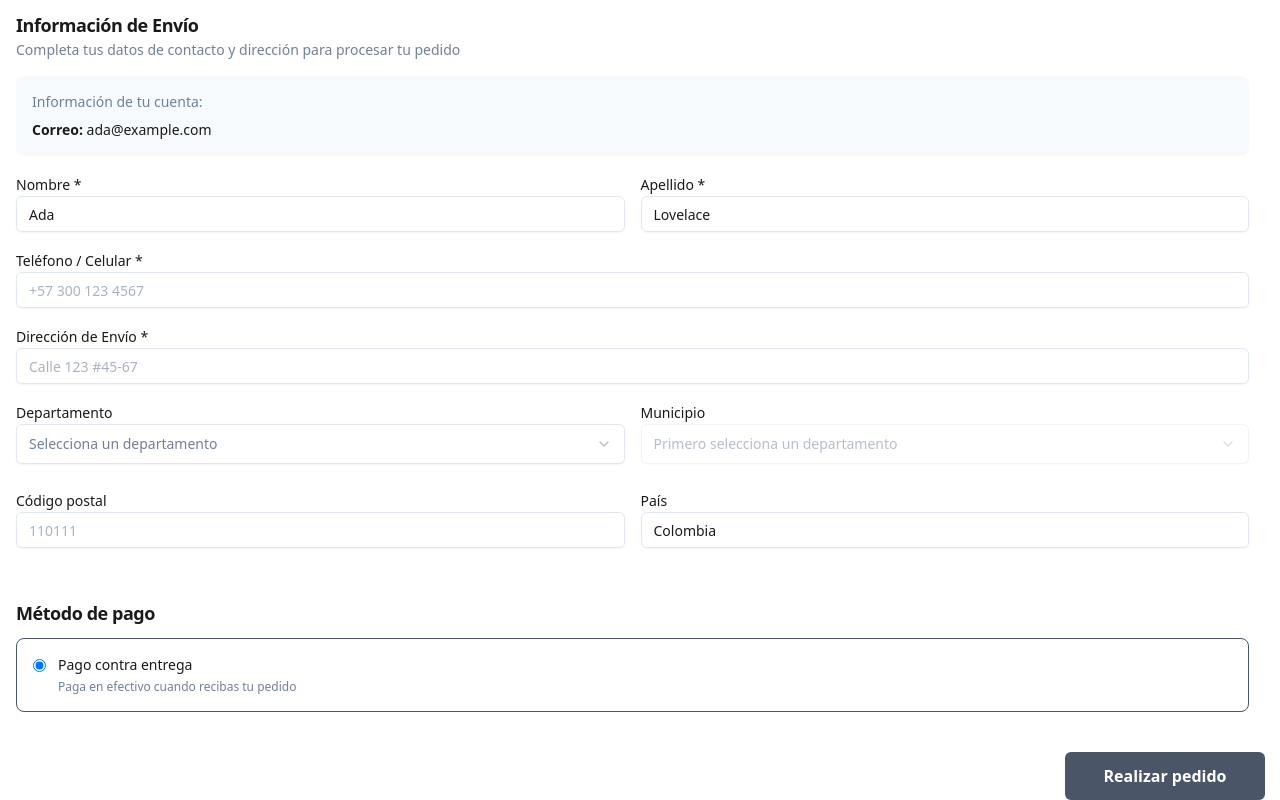
it: AuthenticatedCheckoutForm field validation › requires phone and address before submitting
The width and height of the screenshot is (1280, 800).
Click the button "Realizar pedido". click: (1165, 776)
box: [1065,752,1265,799]
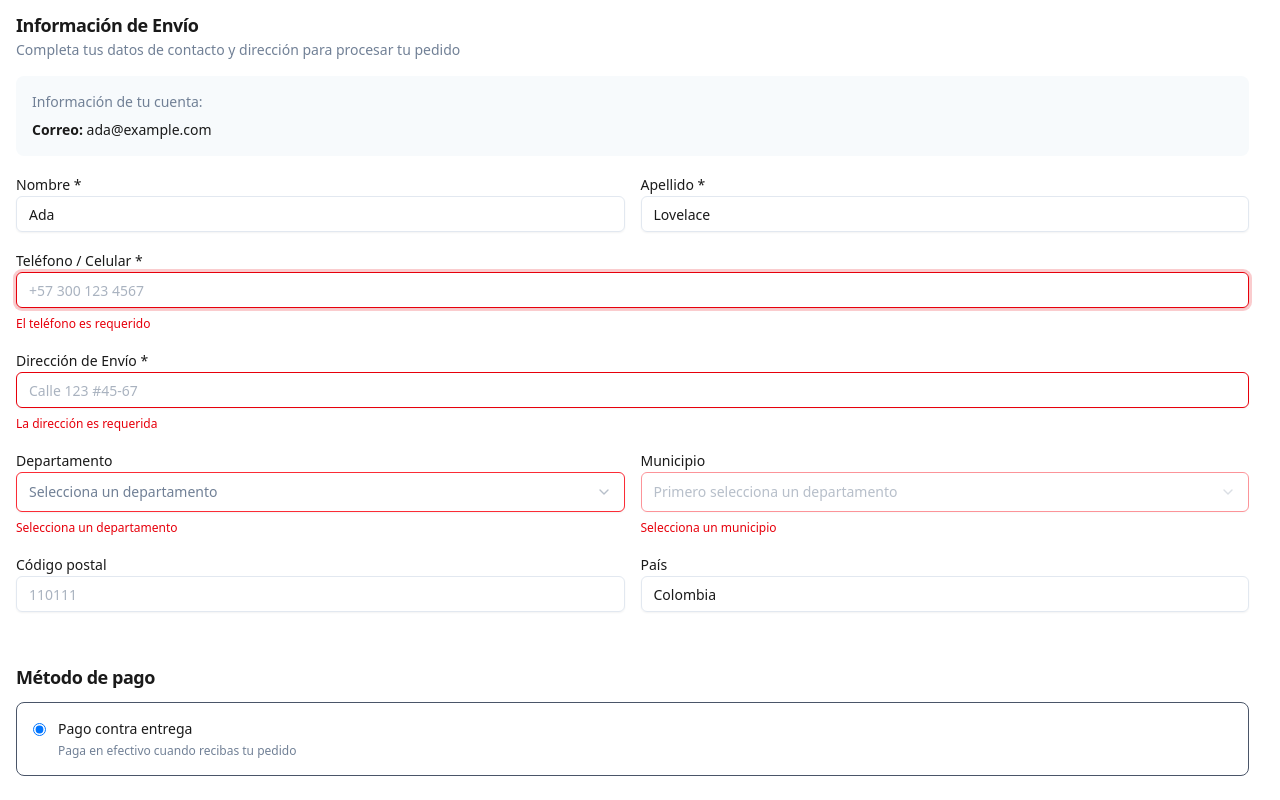
Now the text "El teléfono es requerido" is shown, box [16,315,150,332]
